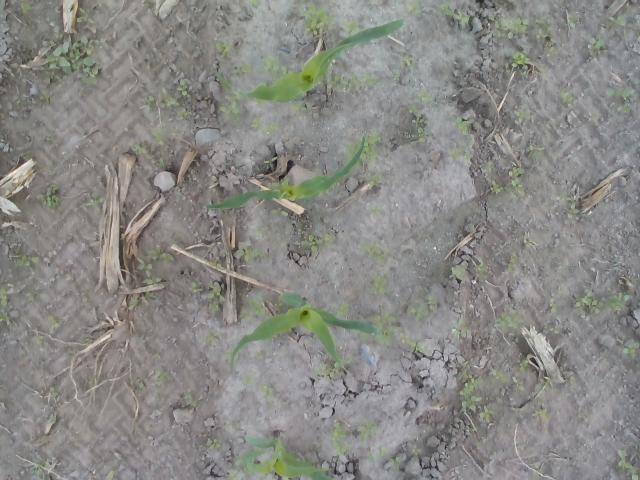Maize: (238, 18, 404, 102), (230, 290, 380, 369), (208, 136, 365, 210), (243, 428, 334, 480)
Weeds: (41, 36, 104, 86), (135, 246, 176, 286), (298, 0, 338, 36), (573, 289, 630, 314), (484, 13, 530, 40), (329, 73, 382, 95), (458, 366, 482, 411), (402, 104, 428, 145), (256, 54, 294, 80), (406, 292, 438, 321), (142, 86, 178, 111), (438, 3, 468, 31), (367, 312, 400, 336), (237, 295, 266, 322), (492, 310, 528, 331), (606, 87, 634, 114), (205, 279, 226, 314), (617, 449, 640, 480), (449, 117, 475, 144), (38, 180, 63, 208), (328, 421, 349, 454), (359, 240, 385, 264), (509, 50, 529, 80), (304, 232, 337, 250), (398, 331, 426, 352), (509, 164, 529, 193), (220, 95, 242, 121), (15, 248, 40, 270), (536, 18, 554, 48), (364, 134, 383, 161), (484, 367, 511, 386), (237, 244, 265, 262), (152, 127, 176, 147), (366, 271, 384, 296), (0, 286, 12, 323), (250, 117, 276, 134), (358, 418, 378, 440), (314, 362, 338, 380), (130, 291, 160, 305), (560, 192, 576, 216), (80, 192, 104, 208), (451, 319, 471, 338), (590, 32, 610, 50), (512, 104, 530, 124), (446, 148, 471, 162), (216, 70, 233, 90), (339, 20, 361, 34), (215, 40, 232, 58), (182, 389, 199, 407), (76, 6, 94, 22), (335, 303, 352, 319), (342, 142, 358, 158), (408, 1, 424, 17), (512, 376, 526, 394), (527, 144, 545, 158), (270, 207, 292, 218), (48, 314, 63, 330), (175, 79, 189, 96), (32, 462, 49, 476), (154, 368, 168, 385), (260, 383, 273, 401), (480, 408, 496, 422), (362, 175, 384, 185), (208, 258, 226, 270), (606, 14, 624, 26), (488, 178, 503, 192), (129, 142, 145, 155), (50, 384, 63, 400), (508, 252, 518, 272), (622, 344, 636, 358), (418, 88, 432, 102), (20, 0, 34, 14), (40, 94, 56, 106), (560, 91, 573, 105), (243, 373, 257, 386), (206, 438, 222, 449), (517, 358, 529, 372), (548, 302, 560, 316), (542, 376, 552, 392), (190, 281, 202, 294), (401, 54, 415, 65), (533, 408, 549, 417), (238, 63, 252, 73), (408, 447, 422, 457), (177, 110, 189, 121), (264, 156, 276, 167), (378, 446, 389, 458), (226, 469, 237, 480), (159, 158, 169, 170), (390, 454, 400, 466), (566, 16, 578, 26), (451, 266, 467, 273), (390, 71, 401, 81), (522, 236, 532, 247), (34, 334, 44, 345), (104, 469, 114, 480), (475, 264, 487, 273), (134, 383, 146, 392), (46, 135, 56, 145), (140, 0, 152, 8), (366, 453, 374, 465), (369, 208, 385, 214), (207, 334, 217, 343), (298, 223, 308, 232), (568, 376, 578, 385), (240, 8, 249, 17), (254, 352, 264, 360), (255, 227, 262, 237), (250, 0, 258, 7), (636, 364, 640, 370)
